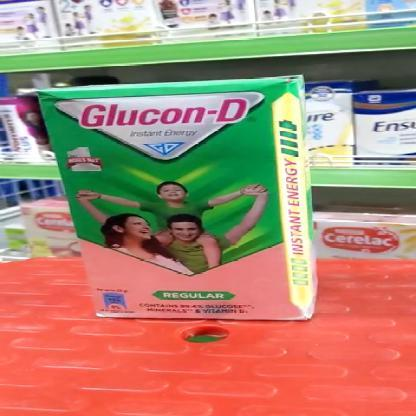Glucon D Regular 1-KG: (48, 80, 308, 318)
